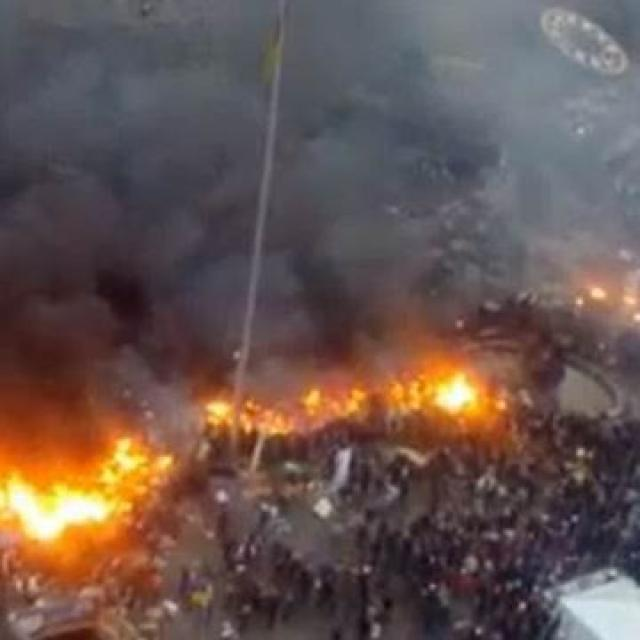Fire: (0, 453, 123, 553), (198, 386, 284, 442), (304, 372, 366, 434), (414, 371, 482, 424), (110, 431, 174, 478)
Smoke: (0, 7, 405, 374)
